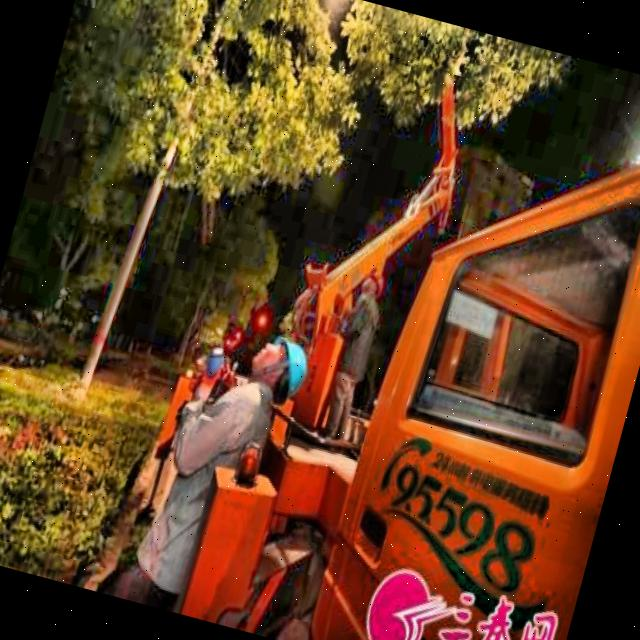helmet: (246, 329, 317, 404), (353, 263, 392, 308)
